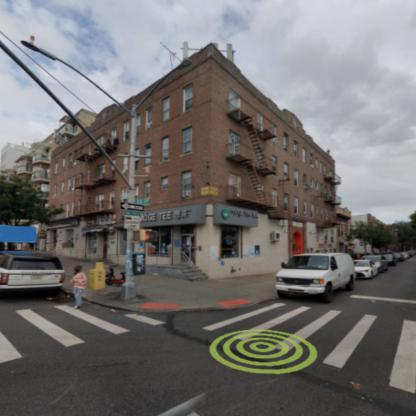Streetlights 1: (18, 33, 167, 315)
